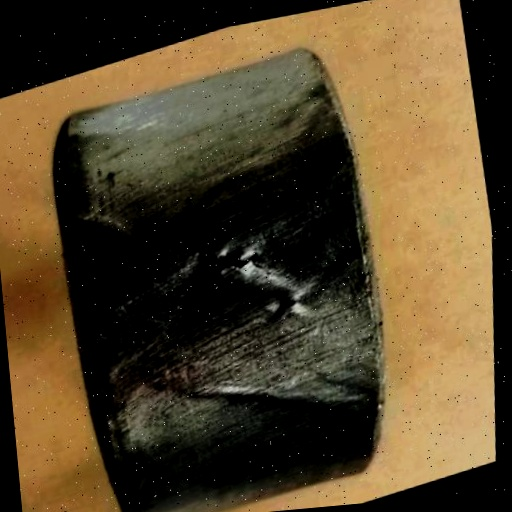crack: (192, 228, 271, 304), (269, 280, 317, 324)
